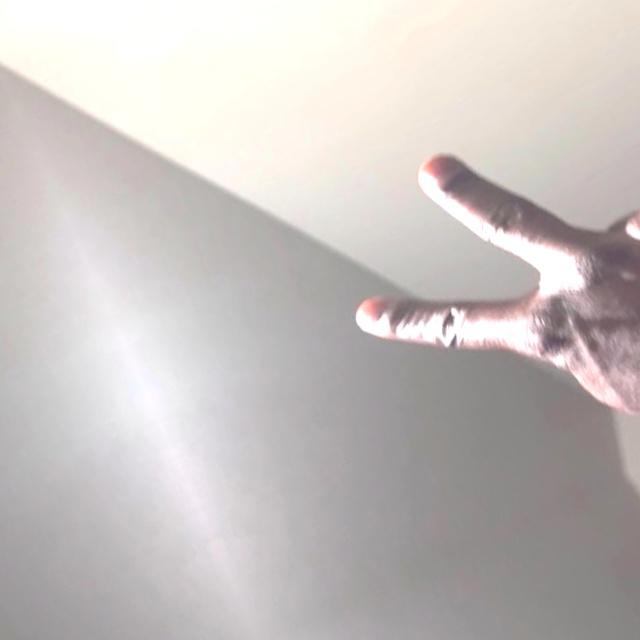Scissors: (0, 398, 56, 640)
